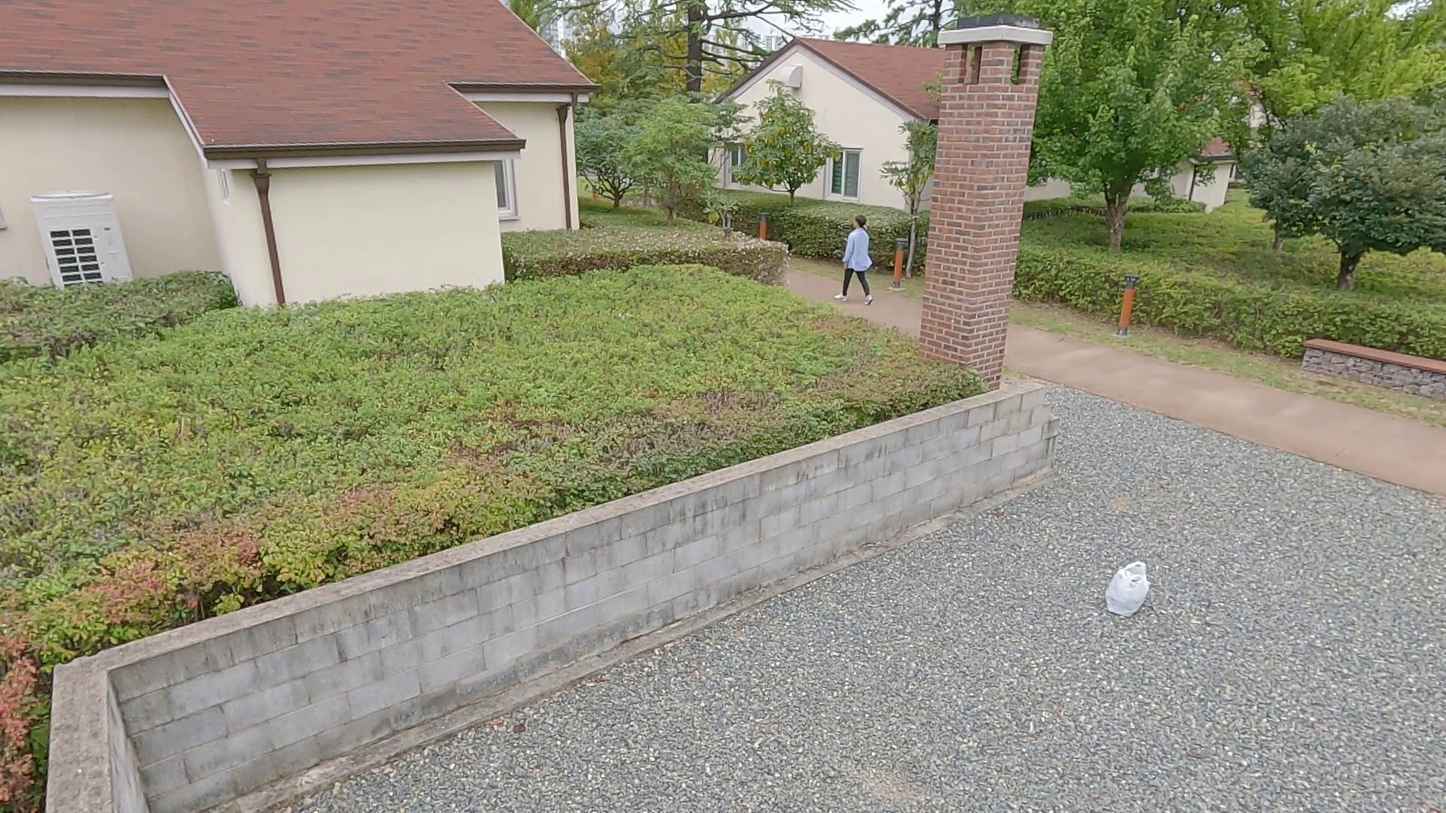person: (838, 209, 876, 307)
trash: (1102, 560, 1152, 622)
